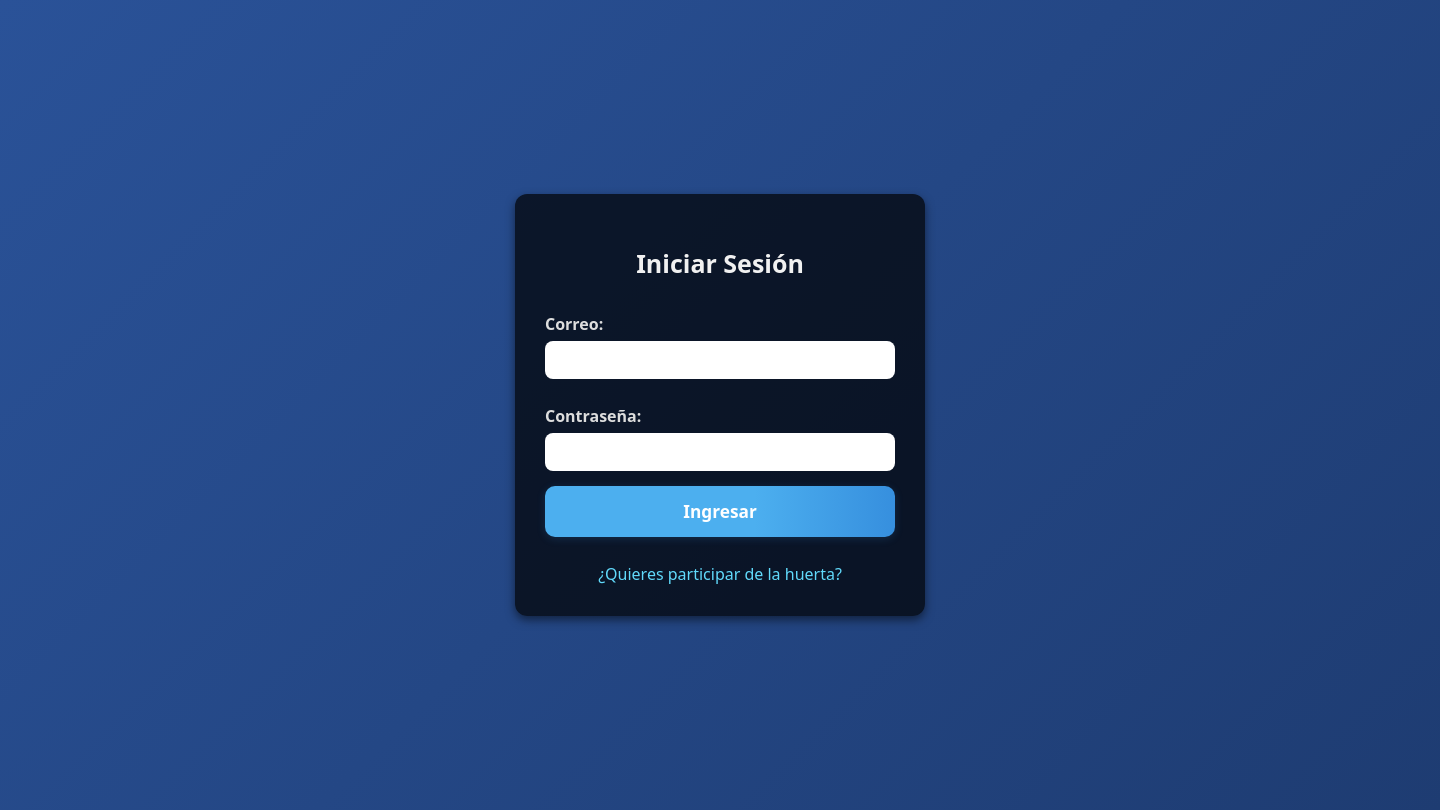
Test: Componente: Login › Realiza login exitoso y muestra mensaje
// Simular entrada de datos
Type "roberto@gmail.com" into the field labelled "Correo:".
click(720, 360); type("roberto@gmail.com")  # box [545, 341, 895, 379]
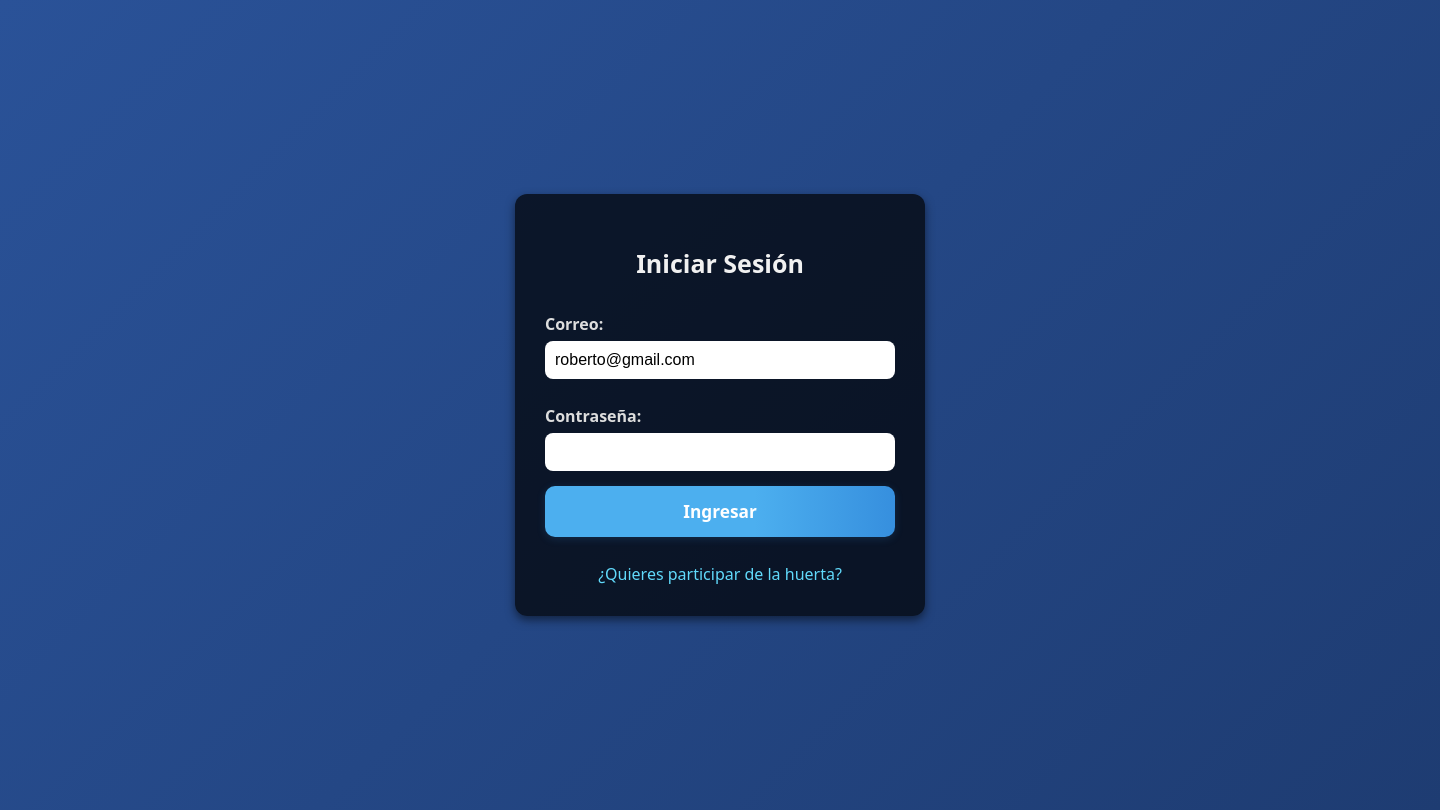
Type "user1234" into the password field labelled "Contraseña:".
click(720, 452); type("user1234")  # box [545, 433, 895, 471]
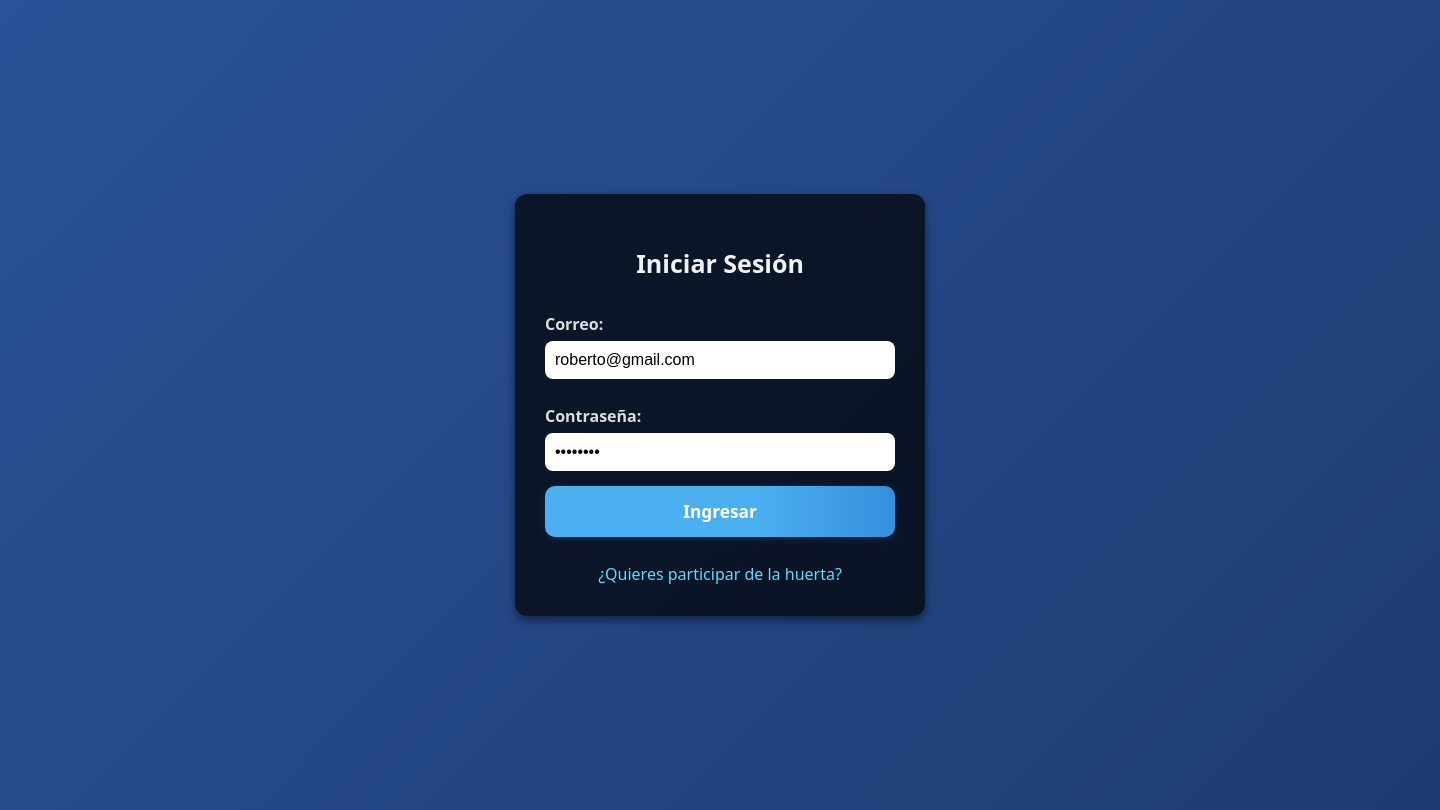
// Usar act para eventos que cambian estado (async)
Click the button "Ingresar".
click(720, 512)  # box [545, 486, 895, 537]
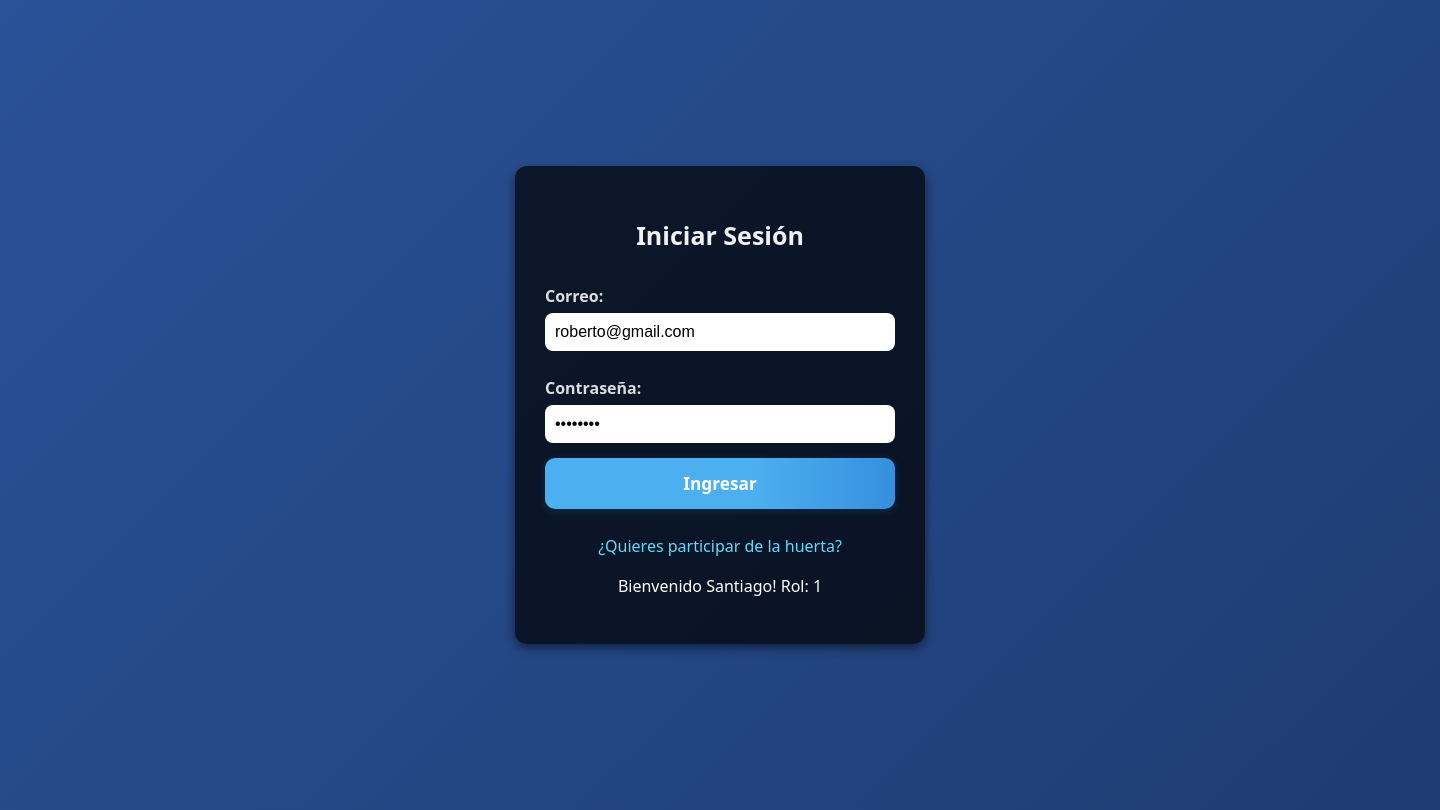
Now the text "Bienvenido Santiago! Rol: 1" is shown, box [618, 575, 822, 597]
